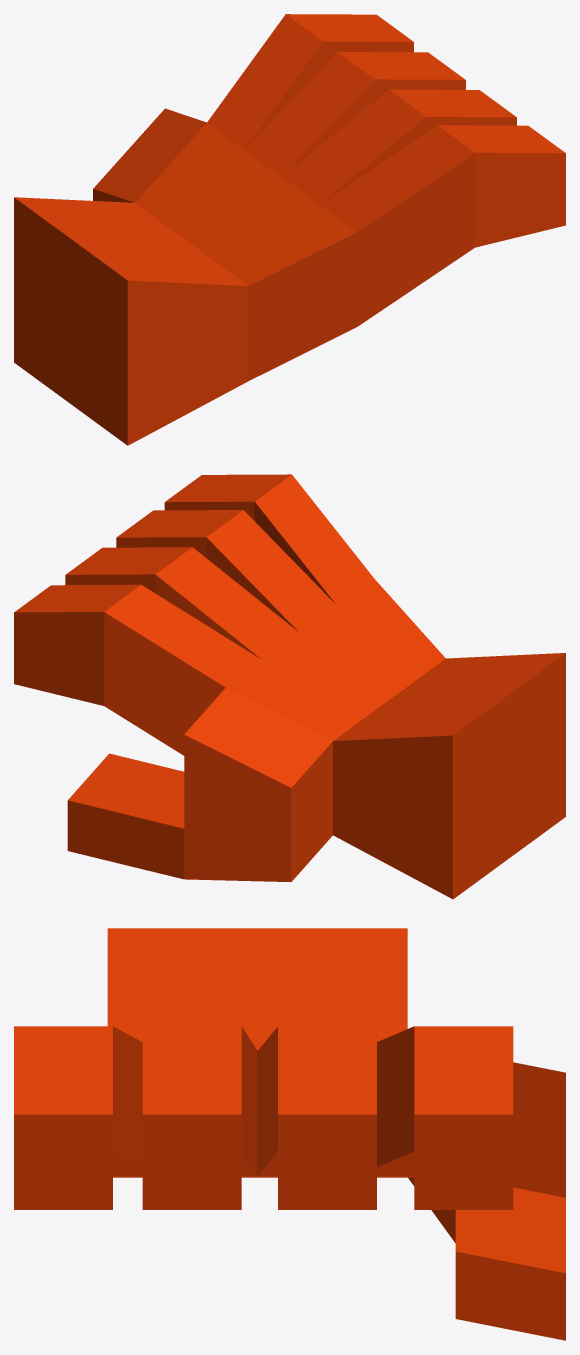
Rendered from GrabHandTest.fbx.
3 renders of one model, top to bottom at view 1: azimuth 30°, elevation 25°; view 2: azimuth 150°, elevation 25°; view 3: azimuth 270°, elevation 25°, orthographic. The views are drawn at different scales.
Visible parts, largest first — view 1: pCube1; view 2: pCube1; view 3: pCube1.
Part boxes in pixels (x1,y1,x2,y2): pCube1: (14,14,565,445); pCube1: (14,474,565,899); pCube1: (14,928,565,1340).
Bounding box in the file's own units: 6.66 × 3.84 × 6.
